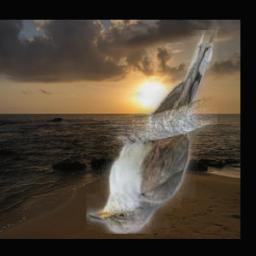Cuckoo: (86, 30, 217, 234)
